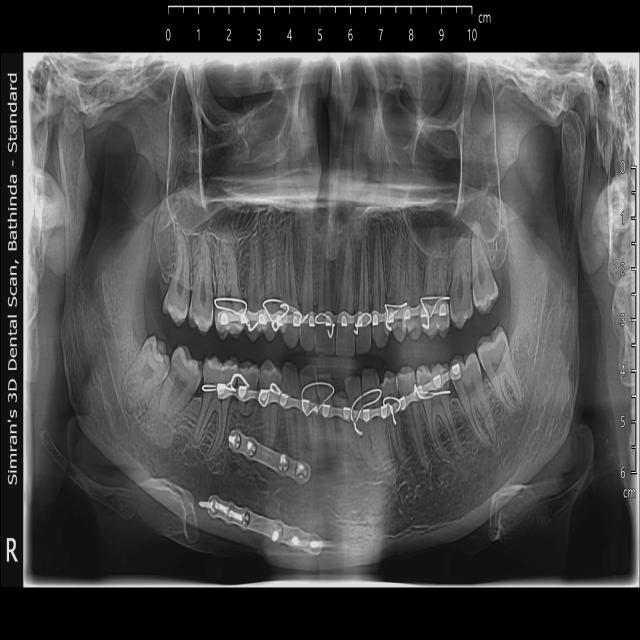Mandibular Canal: (443, 271, 561, 491), (98, 279, 203, 487)
impacted tooth: (122, 336, 168, 414)
maxillary sinus: (166, 68, 288, 241), (404, 60, 502, 259)
